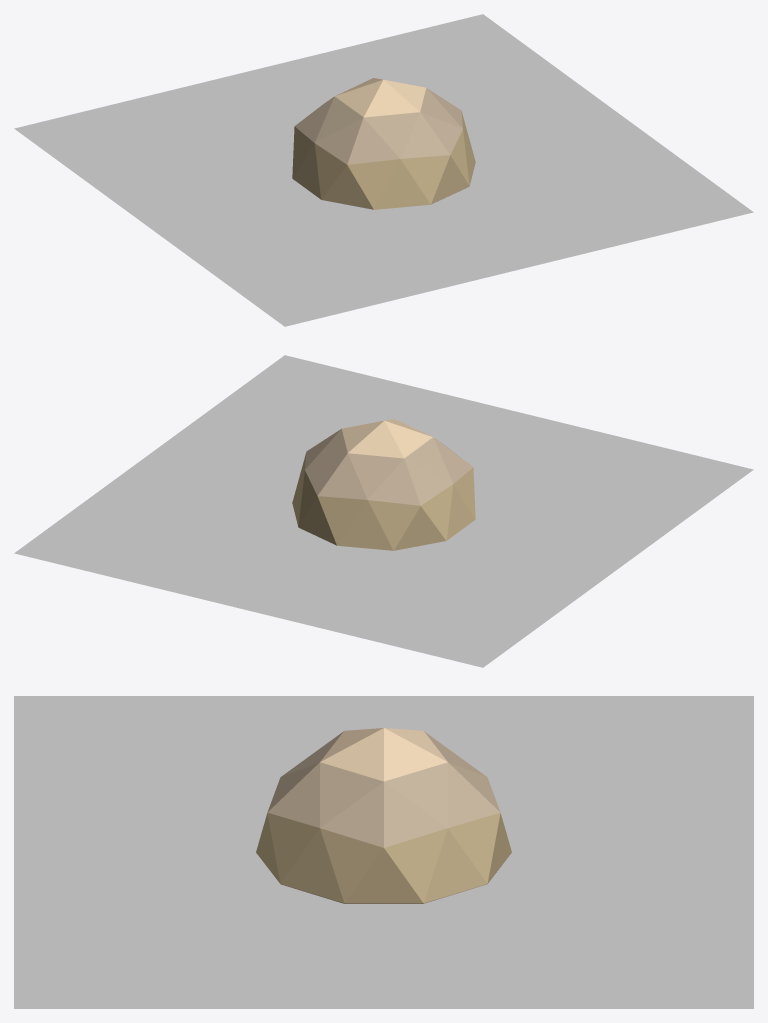
Rendered from saturn.fbx.
3 renders of one model, top to bottom at view 1: azimuth 30°, elevation 25°; view 2: azimuth 150°, elevation 25°; view 3: azimuth 270°, elevation 25°, orthographic. The views are drawn at different scales.
Visible parts, largest first — view 1: pSolid2; view 2: pSolid2; view 3: pSolid2.
Part boxes in pixels (x1,y1,x2,y2): pSolid2: (14, 14, 753, 326); pSolid2: (14, 355, 753, 667); pSolid2: (14, 696, 753, 1008).
Bounding box in the file's own units: 50 × 18.53 × 50.
